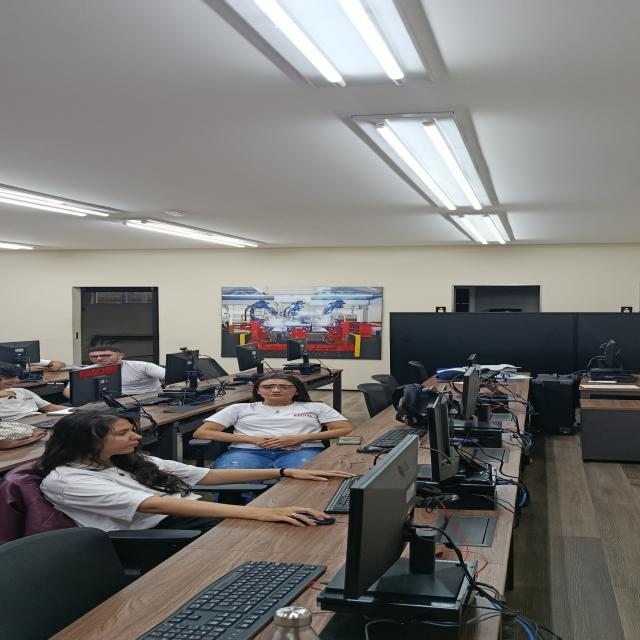oculos-epi: (257, 385, 297, 391)
sem_oculos: (101, 428, 143, 436), (0, 374, 23, 382), (87, 355, 111, 359)
